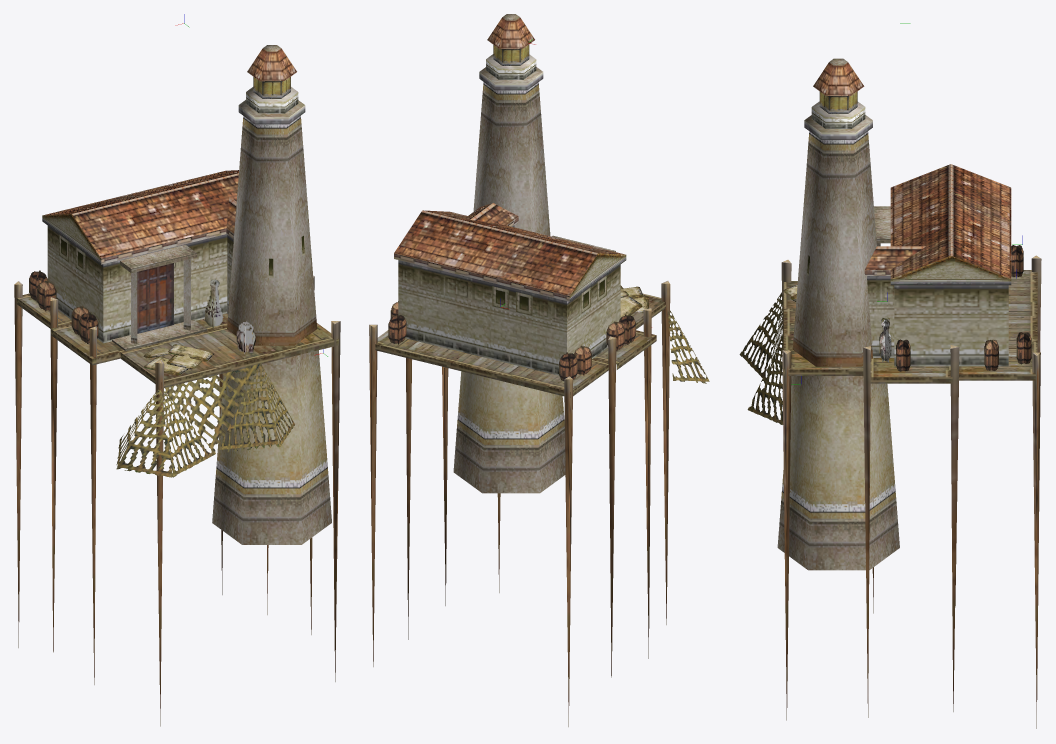
File: age1.glb
The picture shows the model from 3 angles, left to right: view 1: azimuth 30°, elevation 25°; view 2: azimuth 150°, elevation 25°; view 3: azimuth 270°, elevation 25°; orthographic projection. The views are drawn at different scales.
Visible parts, largest first — view 1: building g tradedockage1Model; view 2: building g tradedockage1Model; view 3: building g tradedockage1Model.
Part boxes in pixels (left/top/right/bottom): building g tradedockage1Model: left=14, top=45, right=340, bottom=726; building g tradedockage1Model: left=369, top=14, right=709, bottom=726; building g tradedockage1Model: left=739, top=58, right=1041, bottom=728.
Size of the model in its own units: 6.64 by 17.31 by 7.06.
Materials: 5 (4 with a texture image).
